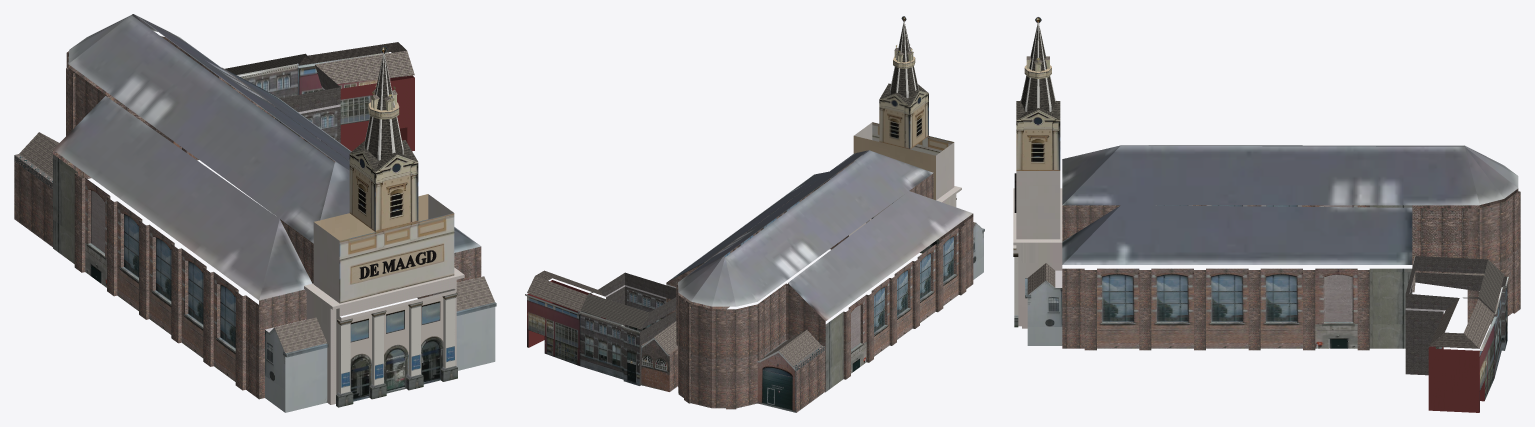
Rendered from euroB_02.glb.
3 renders of one model, left to right at view 1: azimuth 30°, elevation 25°; view 2: azimuth 150°, elevation 25°; view 3: azimuth 270°, elevation 25°, orthographic. The views are drawn at different scales.
Parts seen in each view (by area): view 1: geometry_86, geometry_84, geometry_158, geometry_50, geometry_137, geometry_90, geometry_6, geometry_275, geometry_9, geometry_7, geometry_0, geometry_171 (+13 smaller); view 2: geometry_86, geometry_84, geometry_158, geometry_82, geometry_90, geometry_123, geometry_275, geometry_55, geometry_85, geometry_403, geometry_8, geometry_171 (+8 smaller); view 3: geometry_86, geometry_84, geometry_158, geometry_55, geometry_6, geometry_220, geometry_171, geometry_52, geometry_275, geometry_90, geometry_7, geometry_137 (+4 smaller).
Boxes of the visible parts, x1=… form: geometry_86: x1=53, y1=14, x2=480, y2=300; geometry_84: x1=14, y1=36, x2=481, y2=399; geometry_158: x1=88, y1=154, x2=428, y2=381; geometry_50: x1=339, y1=213, x2=454, y2=303; geometry_137: x1=265, y1=302, x2=496, y2=412; geometry_90: x1=19, y1=42, x2=494, y2=353; geometry_6: x1=265, y1=54, x2=473, y2=360; geometry_275: x1=349, y1=102, x2=418, y2=231; geometry_9: x1=336, y1=336, x2=457, y2=407; geometry_7: x1=304, y1=267, x2=464, y2=404; geometry_0: x1=338, y1=298, x2=455, y2=393; geometry_171: x1=53, y1=107, x2=300, y2=263; geometry_86: x1=668, y1=150, x2=972, y2=321; geometry_84: x1=666, y1=161, x2=973, y2=412; geometry_158: x1=712, y1=201, x2=958, y2=356; geometry_82: x1=579, y1=311, x2=639, y2=385; geometry_90: x1=527, y1=47, x2=975, y2=365; geometry_123: x1=525, y1=294, x2=580, y2=365; geometry_275: x1=879, y1=56, x2=928, y2=149; geometry_55: x1=589, y1=272, x2=676, y2=385; geometry_85: x1=757, y1=340, x2=824, y2=412; geometry_403: x1=641, y1=337, x2=677, y2=391; geometry_8: x1=853, y1=136, x2=935, y2=200; geometry_171: x1=825, y1=311, x2=843, y2=391; geometry_86: x1=1062, y1=145, x2=1518, y2=264; geometry_84: x1=1062, y1=188, x2=1520, y2=350; geometry_158: x1=1097, y1=205, x2=1353, y2=348; geometry_55: x1=1405, y1=256, x2=1507, y2=375; geometry_6: x1=1021, y1=23, x2=1484, y2=412; geometry_220: x1=1315, y1=205, x2=1357, y2=348; geometry_171: x1=1369, y1=205, x2=1412, y2=348; geometry_52: x1=1016, y1=171, x2=1060, y2=239; geometry_275: x1=1016, y1=65, x2=1060, y2=170; geometry_90: x1=1026, y1=56, x2=1504, y2=348; geometry_7: x1=1013, y1=188, x2=1062, y2=328; geometry_137: x1=1025, y1=278, x2=1062, y2=345.
Bounding box in the file's own units: 42.04 × 35.57 × 57.08.
32 materials, 31 textured.
